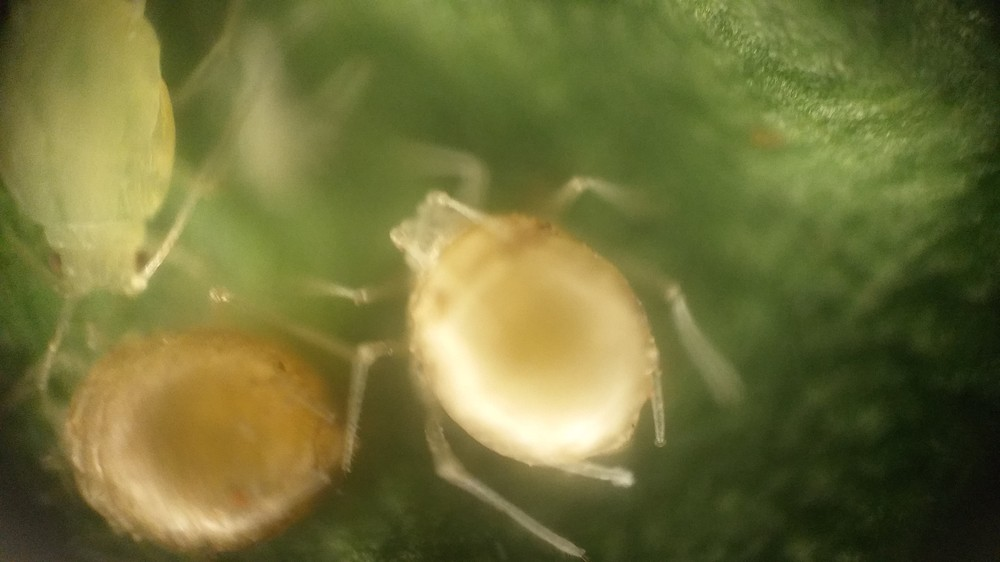Pulgon: (323, 142, 780, 559), (5, 276, 423, 562), (1, 4, 305, 332)
